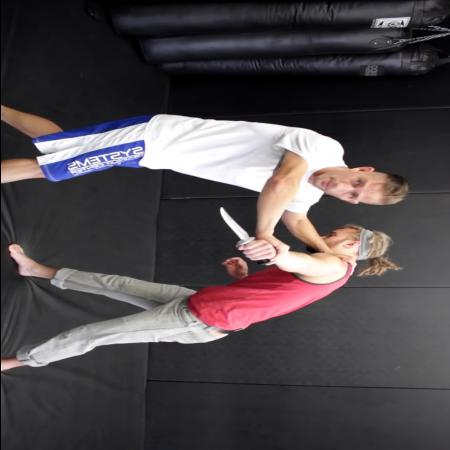long weapon: (213, 203, 275, 270)
